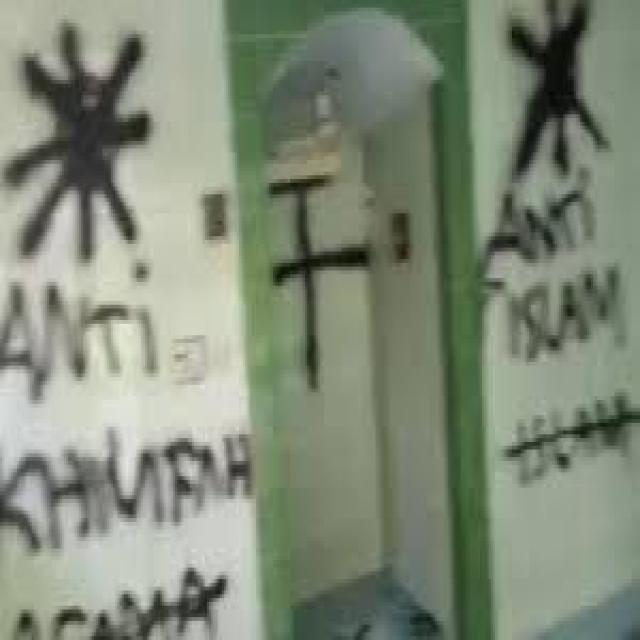nonspitting: (0, 263, 252, 640), (482, 164, 640, 484), (4, 23, 152, 262), (270, 194, 370, 388), (508, 0, 616, 178)
